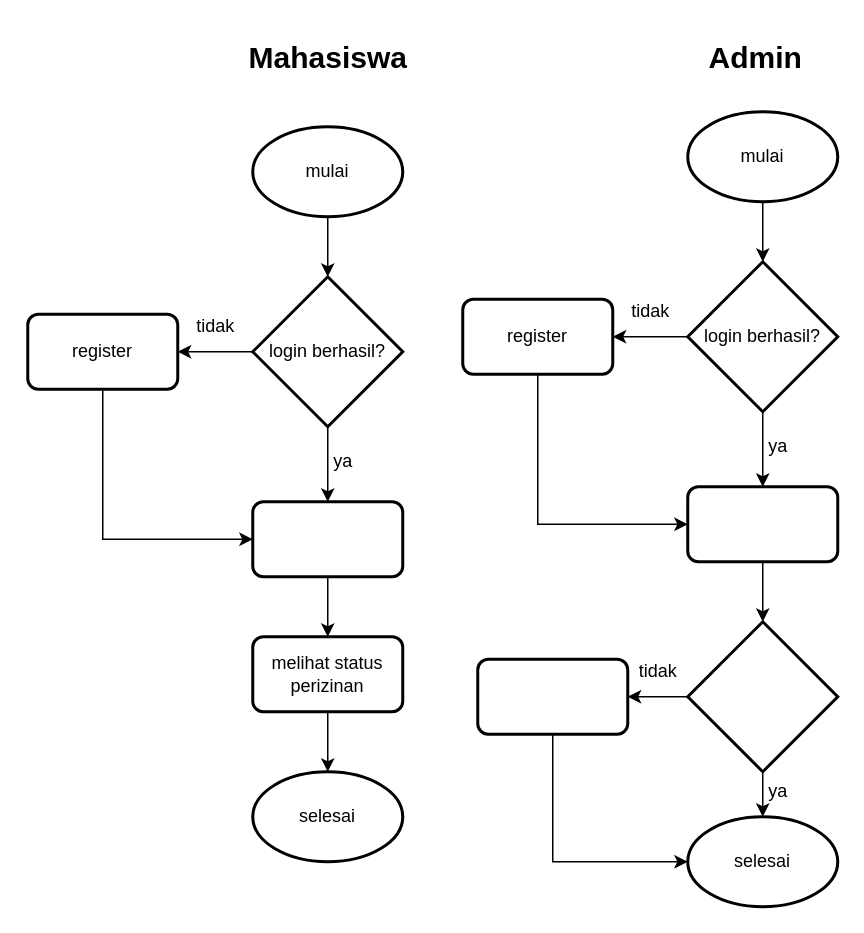
This 864x933 diagram has some shape labels left out. The centre of each missing label's shape, as x and y in pixels:
isi form perizinan: (327,539)
melihat semua perizinan: (762,523)
memberikan catatan alasan menolak izin: (552,696)
menerima izin?: (762,696)
